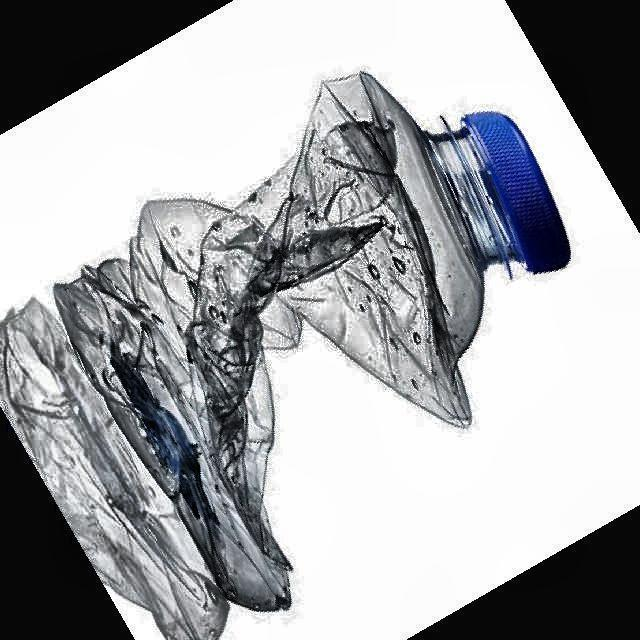plastic: (55, 72, 569, 610)
